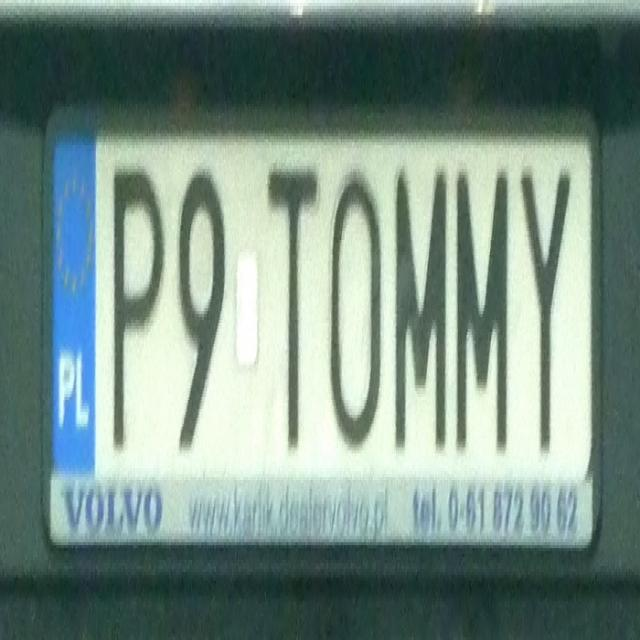pl_license_plate: (48, 125, 594, 474)
